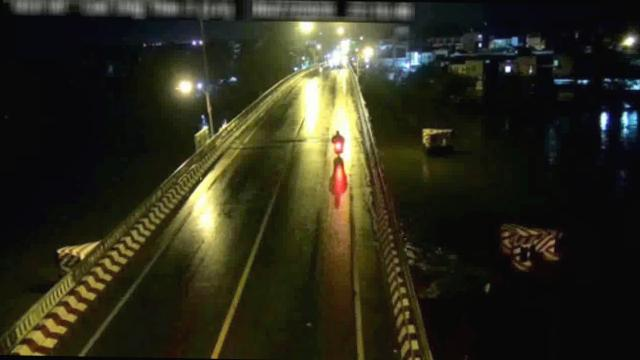Bike: (330, 127, 347, 160)
